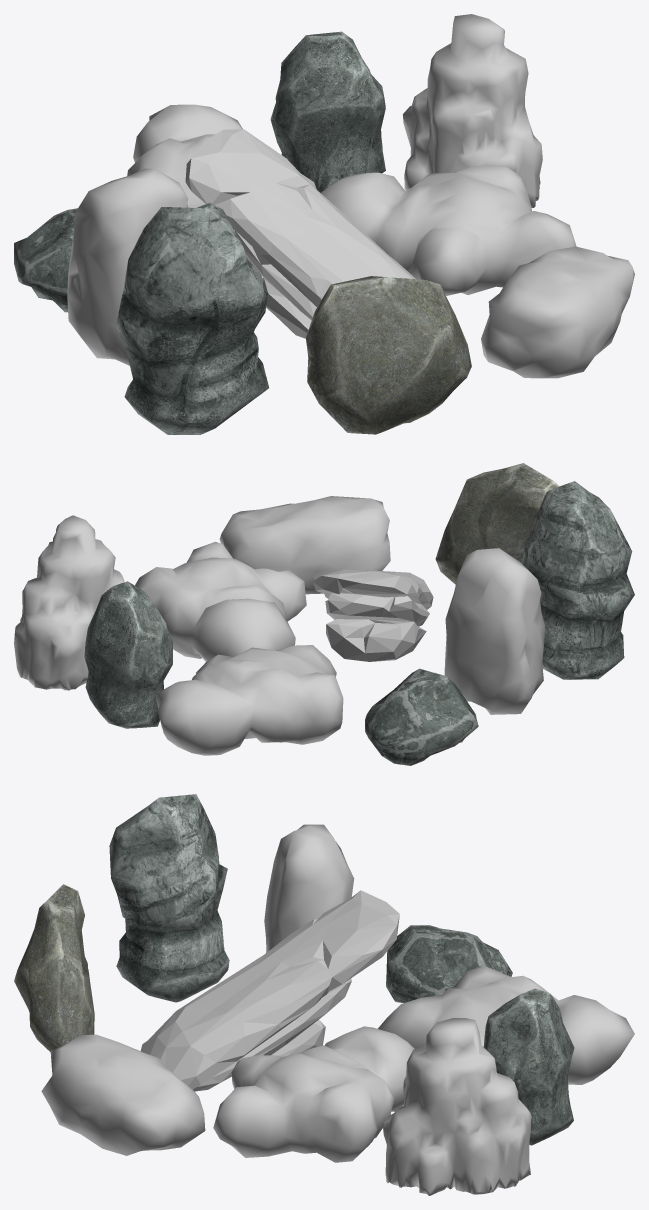
The model's file is Rocks.fbx.
3 renders of one model, top to bottom at view 1: azimuth 30°, elevation 25°; view 2: azimuth 150°, elevation 25°; view 3: azimuth 270°, elevation 25°, orthographic. The views are drawn at different scales.
Visible parts, largest first — view 1: Rock_08, Rock_04, Rock_05S, Rock_06, Rock_07, Rock_03S, Rock_02, Rock_03, Rock_05, Rock_01; view 2: Rock_08, Rock_05, Rock_03, Rock_05S, Rock_07, Rock_03S, Rock_02, Rock_06, Rock_04, Rock_01; view 3: Rock_06, Rock_08, Rock_07, Rock_05S, Rock_03S, Rock_05, Rock_04, Rock_02, Rock_03, Rock_01.
Part boxes in pixels (box(x1,y1,x2,y2)): Rock_08: box(116, 202, 268, 434); Rock_04: box(306, 276, 471, 434); Rock_05S: box(321, 166, 576, 295); Rock_06: box(185, 129, 415, 338); Rock_07: box(402, 14, 542, 207); Rock_03S: box(481, 246, 634, 378); Rock_02: box(270, 31, 385, 192); Rock_03: box(67, 168, 188, 365); Rock_05: box(127, 104, 316, 275); Rock_01: box(14, 208, 77, 312); Rock_08: box(521, 481, 634, 679); Rock_05: box(155, 645, 343, 755); Rock_03: box(444, 548, 544, 714); Rock_05S: box(135, 541, 306, 661); Rock_07: box(14, 515, 124, 690); Rock_03S: box(219, 496, 390, 594); Rock_02: box(84, 581, 172, 728); Rock_06: box(313, 569, 433, 661); Rock_04: box(435, 463, 559, 584); Rock_01: box(365, 668, 478, 765); Rock_06: box(140, 890, 399, 1091); Rock_08: box(109, 794, 229, 1002); Rock_07: box(383, 1018, 531, 1195); Rock_05S: box(213, 1026, 414, 1162); Rock_03S: box(41, 1034, 205, 1155); Rock_05: box(378, 966, 634, 1084); Rock_04: box(14, 884, 94, 1051); Rock_02: box(483, 988, 574, 1145); Rock_03: box(264, 824, 354, 952); Rock_01: box(386, 925, 512, 1003).
Size of the model in its own units: 5952 by 2239 by 6347.
